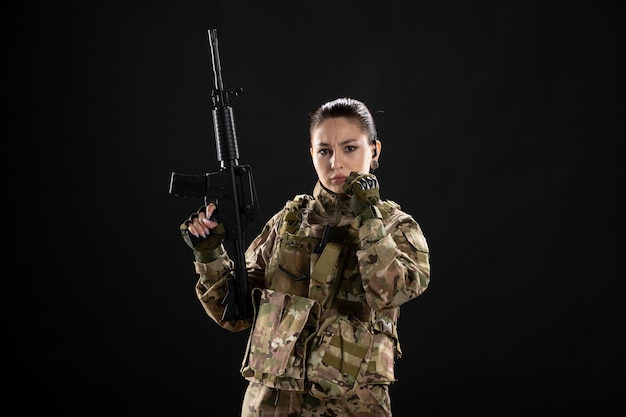gun: (168, 26, 256, 323)
